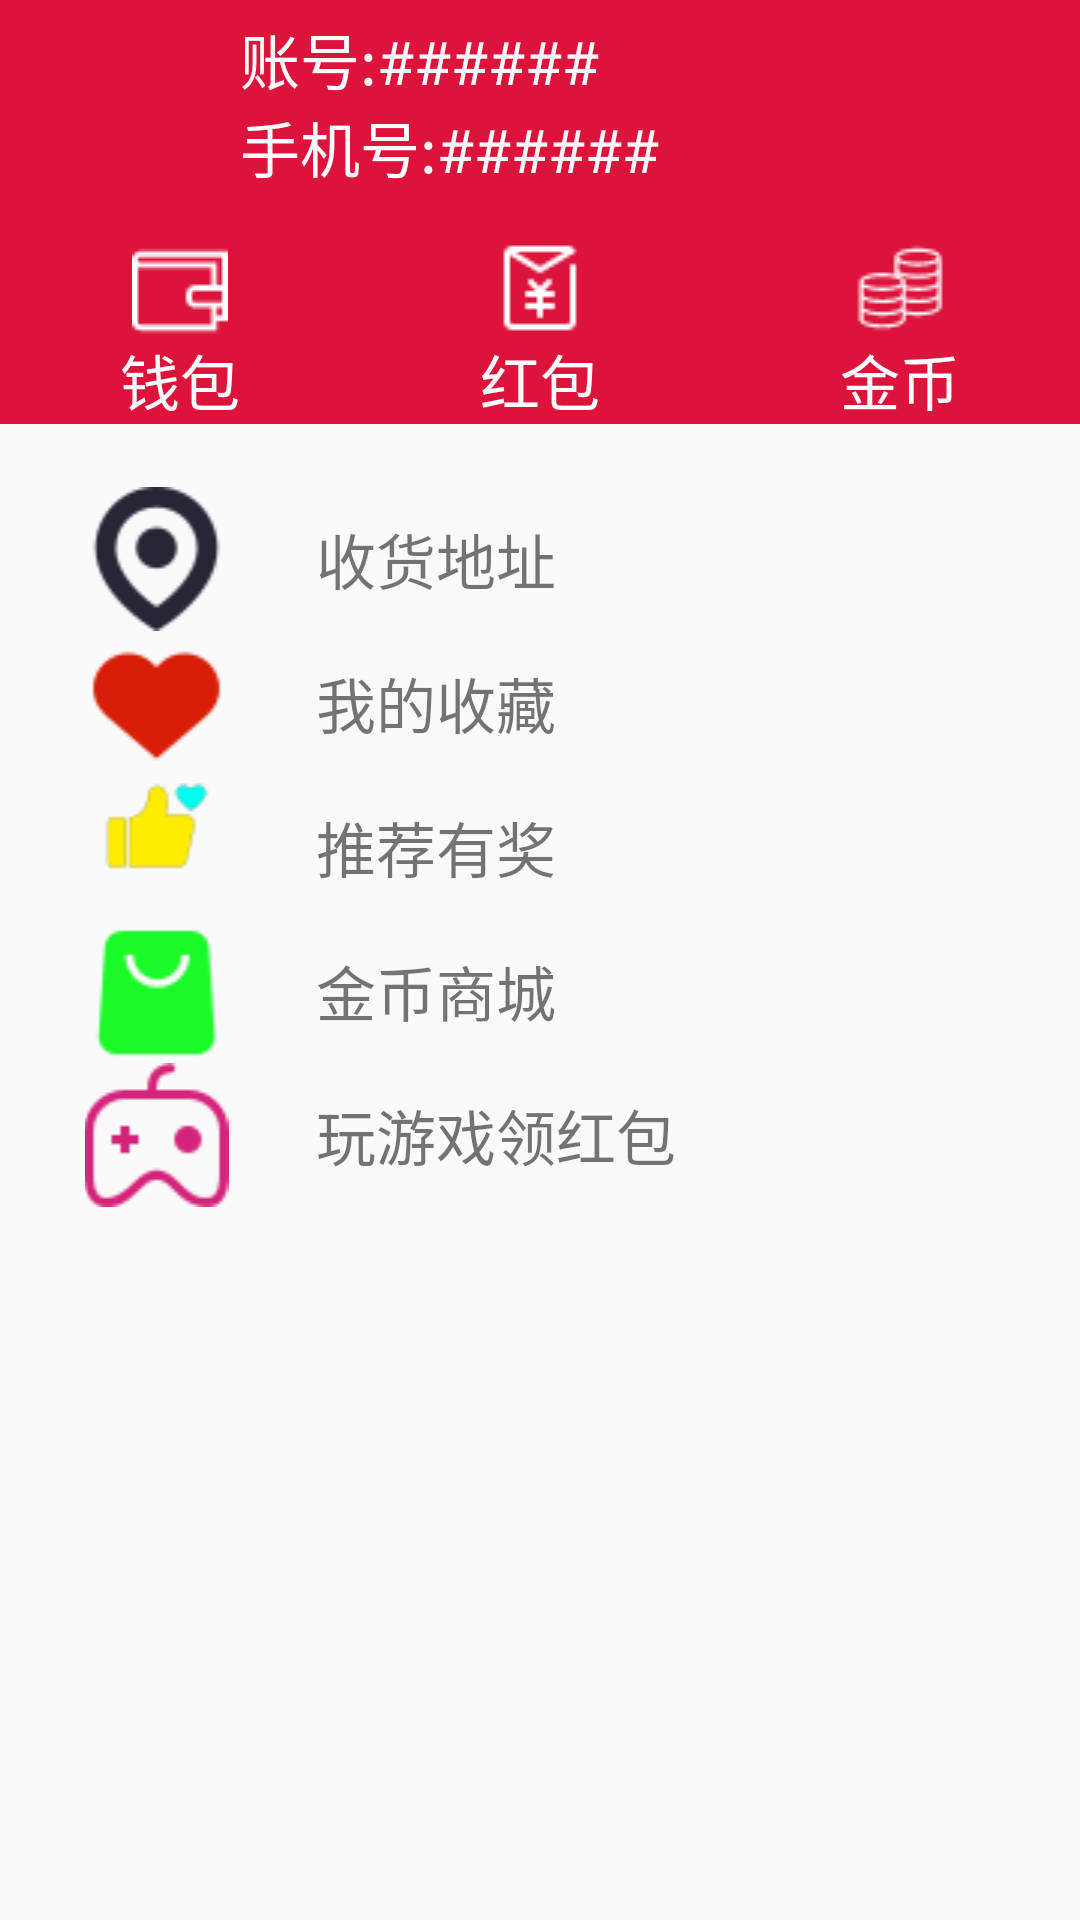

Locate icon controls on the screen. Image size 1080 × 1920, boxes as (x1, y1, x2, y2).
address: (93, 487, 220, 631)
mycollection: (92, 651, 221, 760)
playforredpacket: (85, 1063, 229, 1207)
recommendforprize: (106, 783, 208, 869)
shopforgold: (97, 930, 217, 1055)
